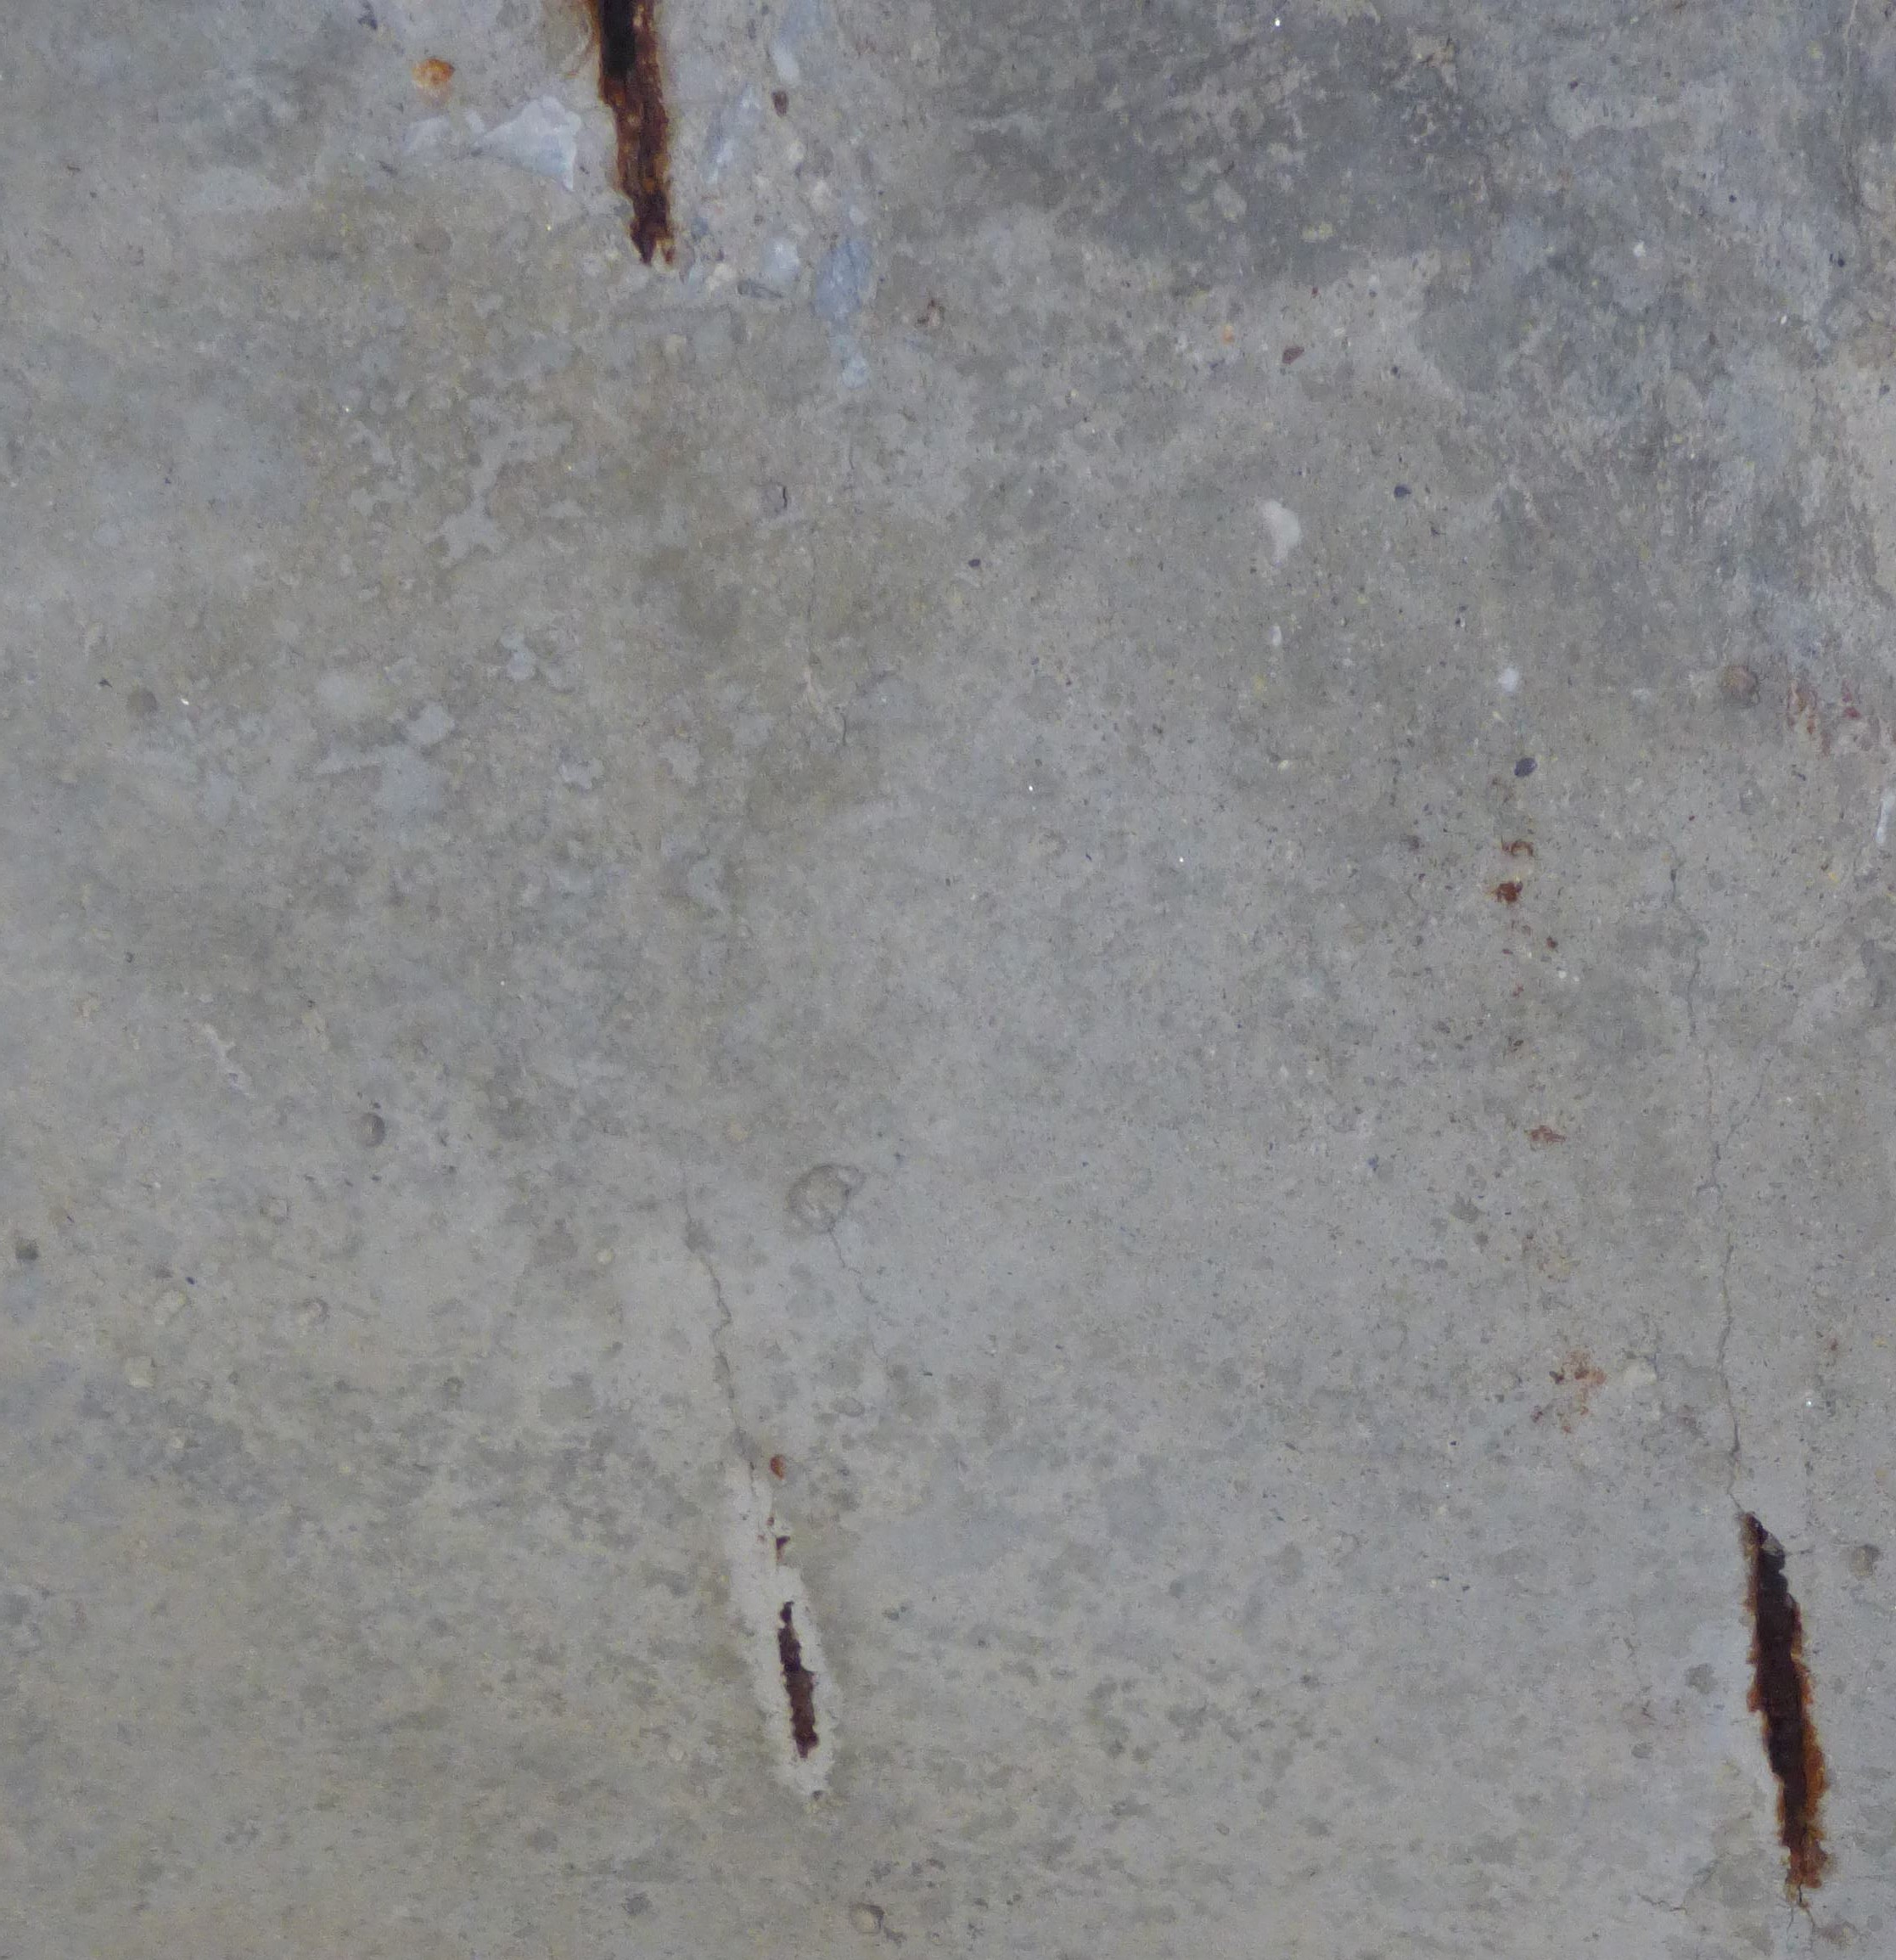Exposed reinforcement: (1740, 1510, 1831, 1890), (589, 0, 677, 266), (778, 1599, 820, 1759)
